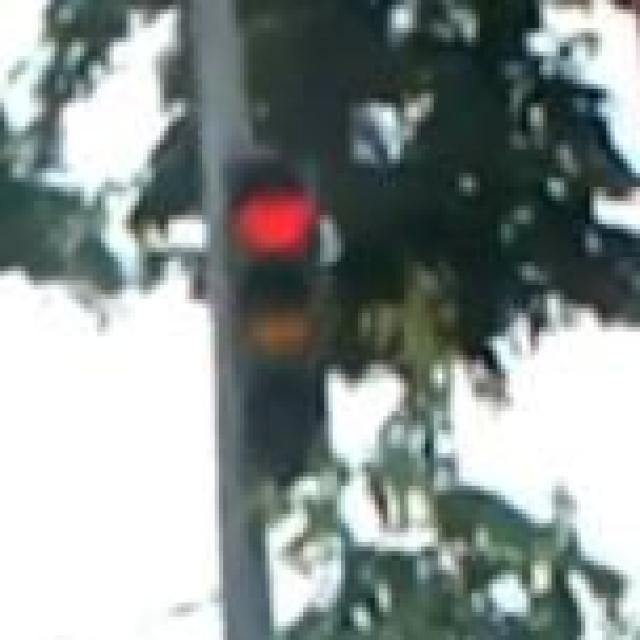yellow_light: (223, 154, 336, 476)
